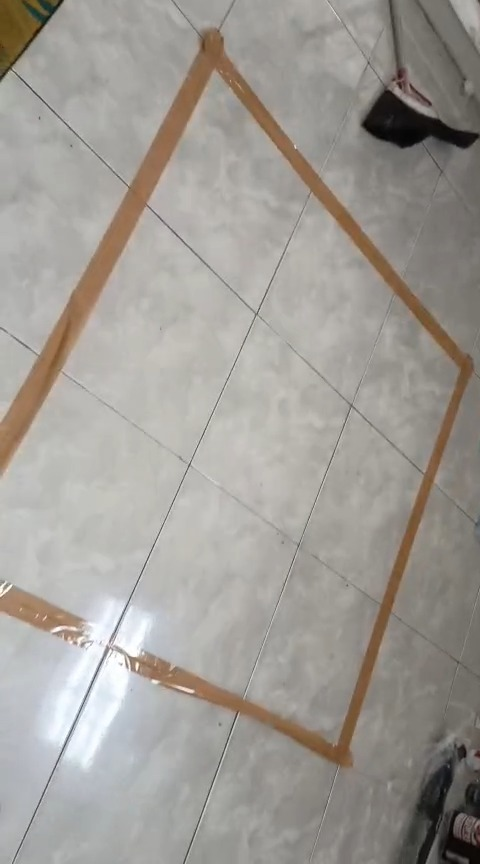floor marking: (0, 29, 472, 764)
